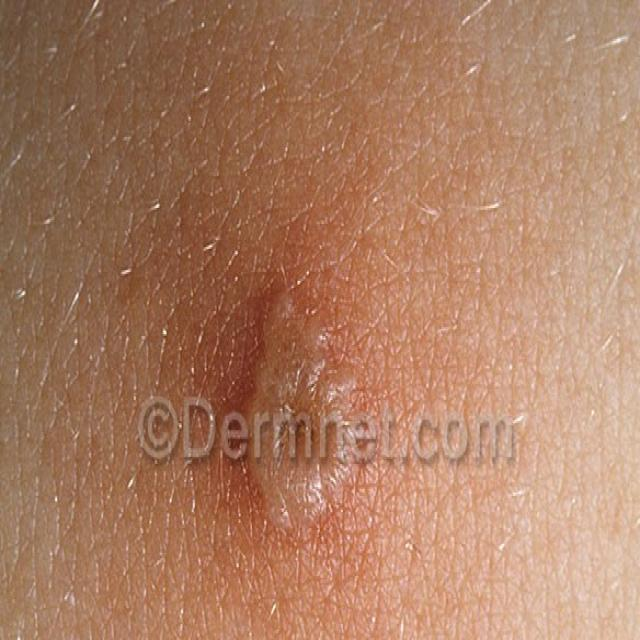Viral Infections: (230, 265, 364, 557)
